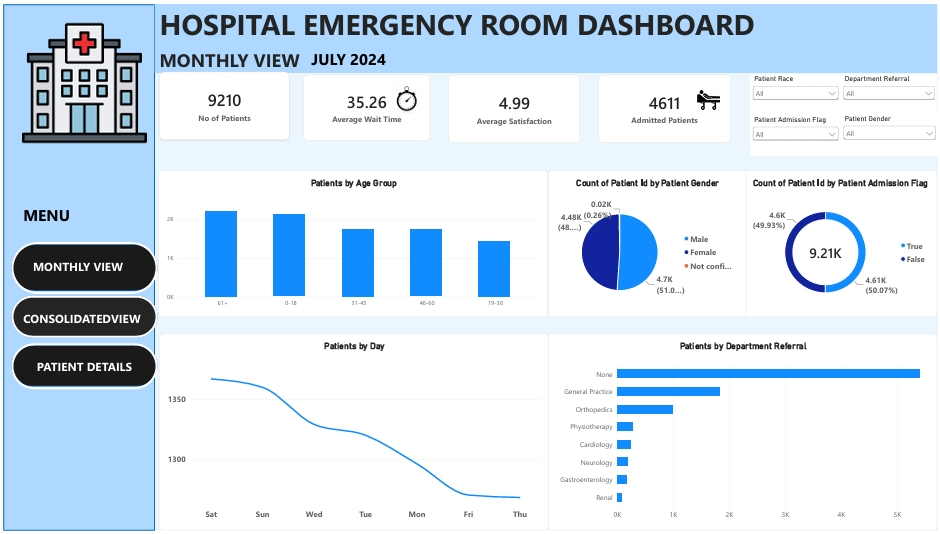

The dashboard page shown, as its layout file describes it:
{"tool":"powerbi","page":{"name":"Hospital Emergency Room Dashboard","canvas":[1920,1080],"ordinal":0},"visuals":[{"type":"shape","box":[0,0,310,1080],"z":0},{"type":"shape","box":[310,0,1608,140],"z":1000},{"type":"textbox","box":[320,0,1278,88],"z":2000},{"type":"textbox","box":[320.3,88.7,313.8,51.9],"z":3000},{"type":"card","fields":{"Values":["Hospital ER_Data.No of Patients"]},"box":[320,138.3,266.7,140],"z":4000},{"type":"slicer","fields":{"Values":["Date Table.Year"]},"box":[1644.7,569.2,274.8,71.4],"z":5000},{"type":"card","fields":{"Values":["Hospital ER_Data.Average Wait Time"]},"box":[616,144,260,135],"z":6000},{"type":"card","fields":{"Values":["Hospital ER_Data.Average Satisfaction"]},"box":[914,144,270,140],"z":7000},{"type":"card","fields":{"Values":["Hospital ER_Data.Admitted Patients"]},"box":[1222,144,270.5,138.5],"z":8000},{"type":"donutChart","fields":{"Category":["Hospital ER_Data.Patient Admission Flag"],"Y":["CountNonNull(Hospital ER_Data.Patient Id)"]},"box":[1518,340,400,302],"z":9000},{"type":"pieChart","fields":{"Category":["Hospital ER_Data.Patient Gender"],"Y":["CountNonNull(Hospital ER_Data.Patient Id)"]},"box":[1118,340,408,302],"z":10000},{"type":"clusteredColumnChart","title":"Patients by Age Group","fields":{"Category":["Hospital ER_Data.Age Group"],"Y":["Hospital ER_Data.No of Patients"]},"box":[318,340,800,302],"z":11000},{"type":"clusteredBarChart","title":"Patients by Department Referral","fields":{"Category":["Hospital ER_Data.Department Referral"],"Y":["CountNonNull(Hospital ER_Data.Patient Id)"]},"box":[1118,676,800,404],"z":12000},{"type":"lineChart","title":"Patients by Day","fields":{"Category":["Hospital ER_Data.Day Name"],"Y":["Hospital ER_Data.No of Patients"]},"box":[320,676,800,404],"z":13000},{"type":"image","box":[38,0,256,322],"z":14000},{"type":"image","box":[794,162,68,66],"z":15000},{"type":"image","box":[1408,176,83.3,40],"z":16000},{"type":"textbox","box":[40,410,155,45],"z":17000},{"type":"slicer","fields":{"Values":["Hospital ER_Data.Patient Race"]},"box":[1534,144,186,84],"z":18000},{"type":"slicer","fields":{"Values":["Hospital ER_Data.Department Referral"]},"box":[1720,144,198,84],"z":19000},{"type":"slicer","fields":{"Values":["Hospital ER_Data.Patient Admission Flag"]},"box":[1534,228,186,84],"z":20000},{"type":"slicer","fields":{"Values":["Hospital ER_Data.Patient Gender"]},"box":[1720,226,200,86],"z":21000},{"type":"textbox","box":[632,88,228,56],"z":22000},{"type":"shape","box":[16,492,300,96],"z":23000},{"type":"shape","box":[16,598,300,86],"z":24000},{"type":"shape","box":[16,700,300,84],"z":25000},{"type":"textbox","box":[60,522,210,48],"z":26000},{"type":"textbox","box":[40,628,260,48],"z":27000},{"type":"textbox","box":[68,726,226,58],"z":28000},{"type":"actionButton","box":[16,488,300,106],"z":29000},{"type":"actionButton","box":[16,598,300,86],"z":30000},{"type":"actionButton","box":[16,696,300,94],"z":31000}]}

Visuals, with their boxes in screenshot pixels (x1, y1, x2, y2), scaled from the page's 1920x1080 canvas onto the 940x534 screenshot:
shape: l=0, t=0, r=152, b=533
shape: l=152, t=0, r=939, b=69
textbox: l=157, t=0, r=782, b=44
textbox: l=157, t=44, r=310, b=70
card - Hospital ER_Data.No of Patients: l=157, t=68, r=287, b=138
slicer - Date Table.Year: l=805, t=281, r=939, b=317
card - Hospital ER_Data.Average Wait Time: l=302, t=71, r=429, b=138
card - Hospital ER_Data.Average Satisfaction: l=447, t=71, r=580, b=140
card - Hospital ER_Data.Admitted Patients: l=598, t=71, r=731, b=140
donutChart - Hospital ER_Data.Patient Admission Flag x CountNonNull(Hospital ER_Data.Patient Id): l=743, t=168, r=939, b=317
pieChart - Hospital ER_Data.Patient Gender x CountNonNull(Hospital ER_Data.Patient Id): l=547, t=168, r=747, b=317
"Patients by Age Group" clusteredColumnChart: l=156, t=168, r=547, b=317
"Patients by Department Referral" clusteredBarChart: l=547, t=334, r=939, b=533
"Patients by Day" lineChart: l=157, t=334, r=548, b=533
image: l=19, t=0, r=144, b=159
image: l=389, t=80, r=422, b=113
image: l=689, t=87, r=730, b=107
textbox: l=20, t=203, r=95, b=225
slicer - Hospital ER_Data.Patient Race: l=751, t=71, r=842, b=113
slicer - Hospital ER_Data.Department Referral: l=842, t=71, r=939, b=113
slicer - Hospital ER_Data.Patient Admission Flag: l=751, t=113, r=842, b=154
slicer - Hospital ER_Data.Patient Gender: l=842, t=112, r=939, b=154
textbox: l=309, t=44, r=421, b=71
shape: l=8, t=243, r=155, b=291
shape: l=8, t=296, r=155, b=338
shape: l=8, t=346, r=155, b=388
textbox: l=29, t=258, r=132, b=282
textbox: l=20, t=311, r=147, b=334
textbox: l=33, t=359, r=144, b=388
actionButton: l=8, t=241, r=155, b=294
actionButton: l=8, t=296, r=155, b=338
actionButton: l=8, t=344, r=155, b=391
